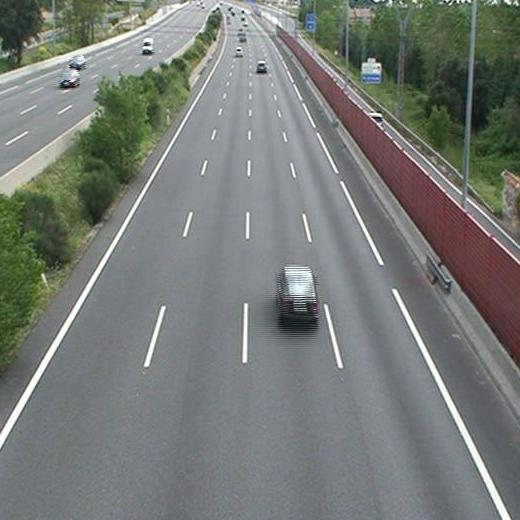car: (278, 267, 317, 316), (256, 61, 267, 71), (234, 47, 242, 56)
